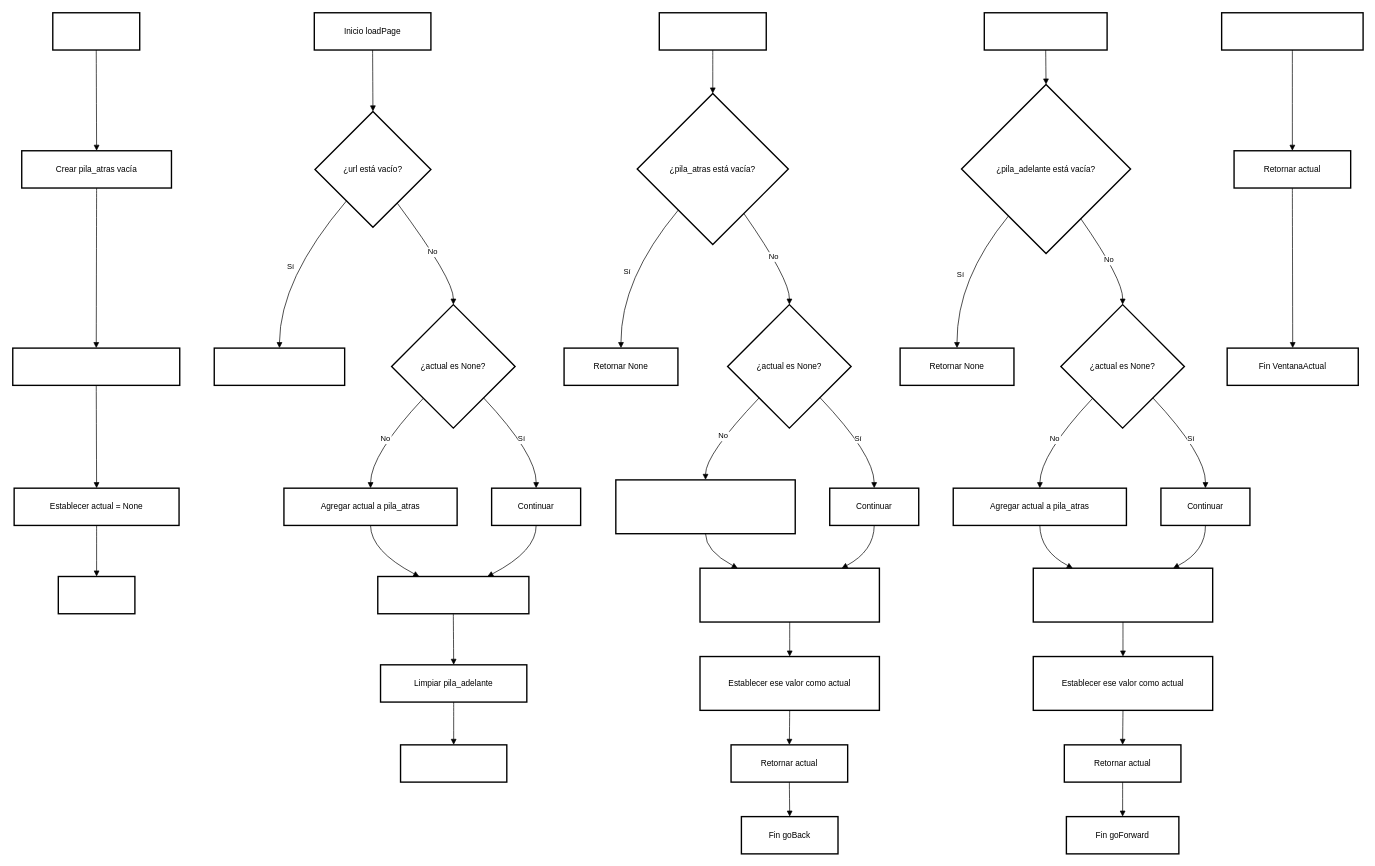
Some shapes in this 1375 by 866 pixel diagram are drawn without their labels. The shapes that lost their labels are listed below. From the top down, each one's centre as x and y in pixels, then its label:
At (x=96, y=31): "Inicio __init__".
At (x=712, y=31): "Inicio goBack".
At (x=1045, y=31): "Inicio goForward".
At (x=1292, y=31): "Inicio VentanaActual".
At (x=96, y=366): "Crear pila_adelante vacía".
At (x=279, y=366): "Lanzar ValueError".
At (x=705, y=506): "Agregar actual a pila_adelante".
At (x=96, y=594): "Fin __init__".
At (x=453, y=594): "Establecer actual = url".
At (x=789, y=594): "Sacar elemento de pila_atras".
At (x=1122, y=594): "Sacar elemento de pila_adelante".
At (x=453, y=763): "Fin loadPage".
